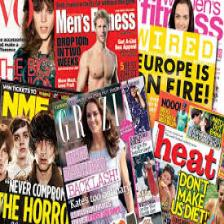paper: (52, 93, 163, 221), (151, 86, 224, 223), (0, 94, 70, 224), (141, 0, 223, 108), (58, 5, 140, 86), (0, 3, 56, 87)
